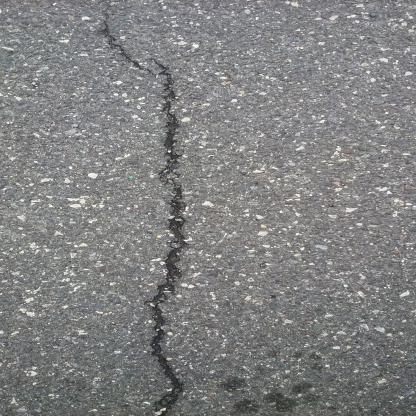Cracks: (93, 7, 199, 416)
